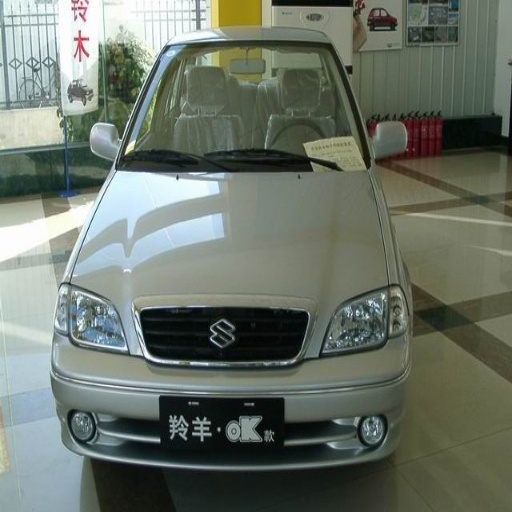front_bumper: (50, 310, 406, 470)
front_right_light: (55, 280, 129, 353)
hood: (72, 167, 388, 334)
left_mirror: (370, 121, 410, 163)
